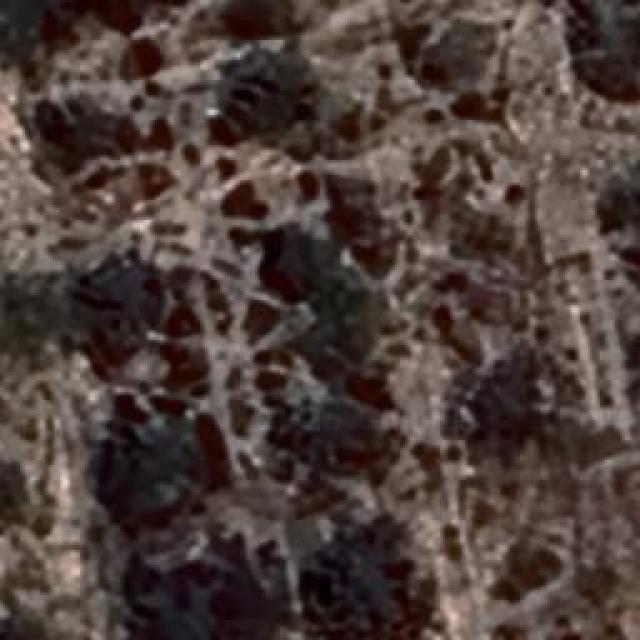PalmTree: (28, 34, 100, 623), (100, 123, 162, 485), (255, 205, 340, 310), (227, 50, 315, 140), (321, 555, 409, 640), (42, 98, 126, 178), (77, 264, 155, 342), (292, 384, 360, 468), (139, 578, 229, 638), (0, 268, 60, 356), (592, 3, 640, 102), (481, 360, 534, 435), (0, 0, 82, 45), (596, 168, 640, 242), (222, 0, 287, 43), (0, 452, 25, 532), (0, 452, 17, 532)
